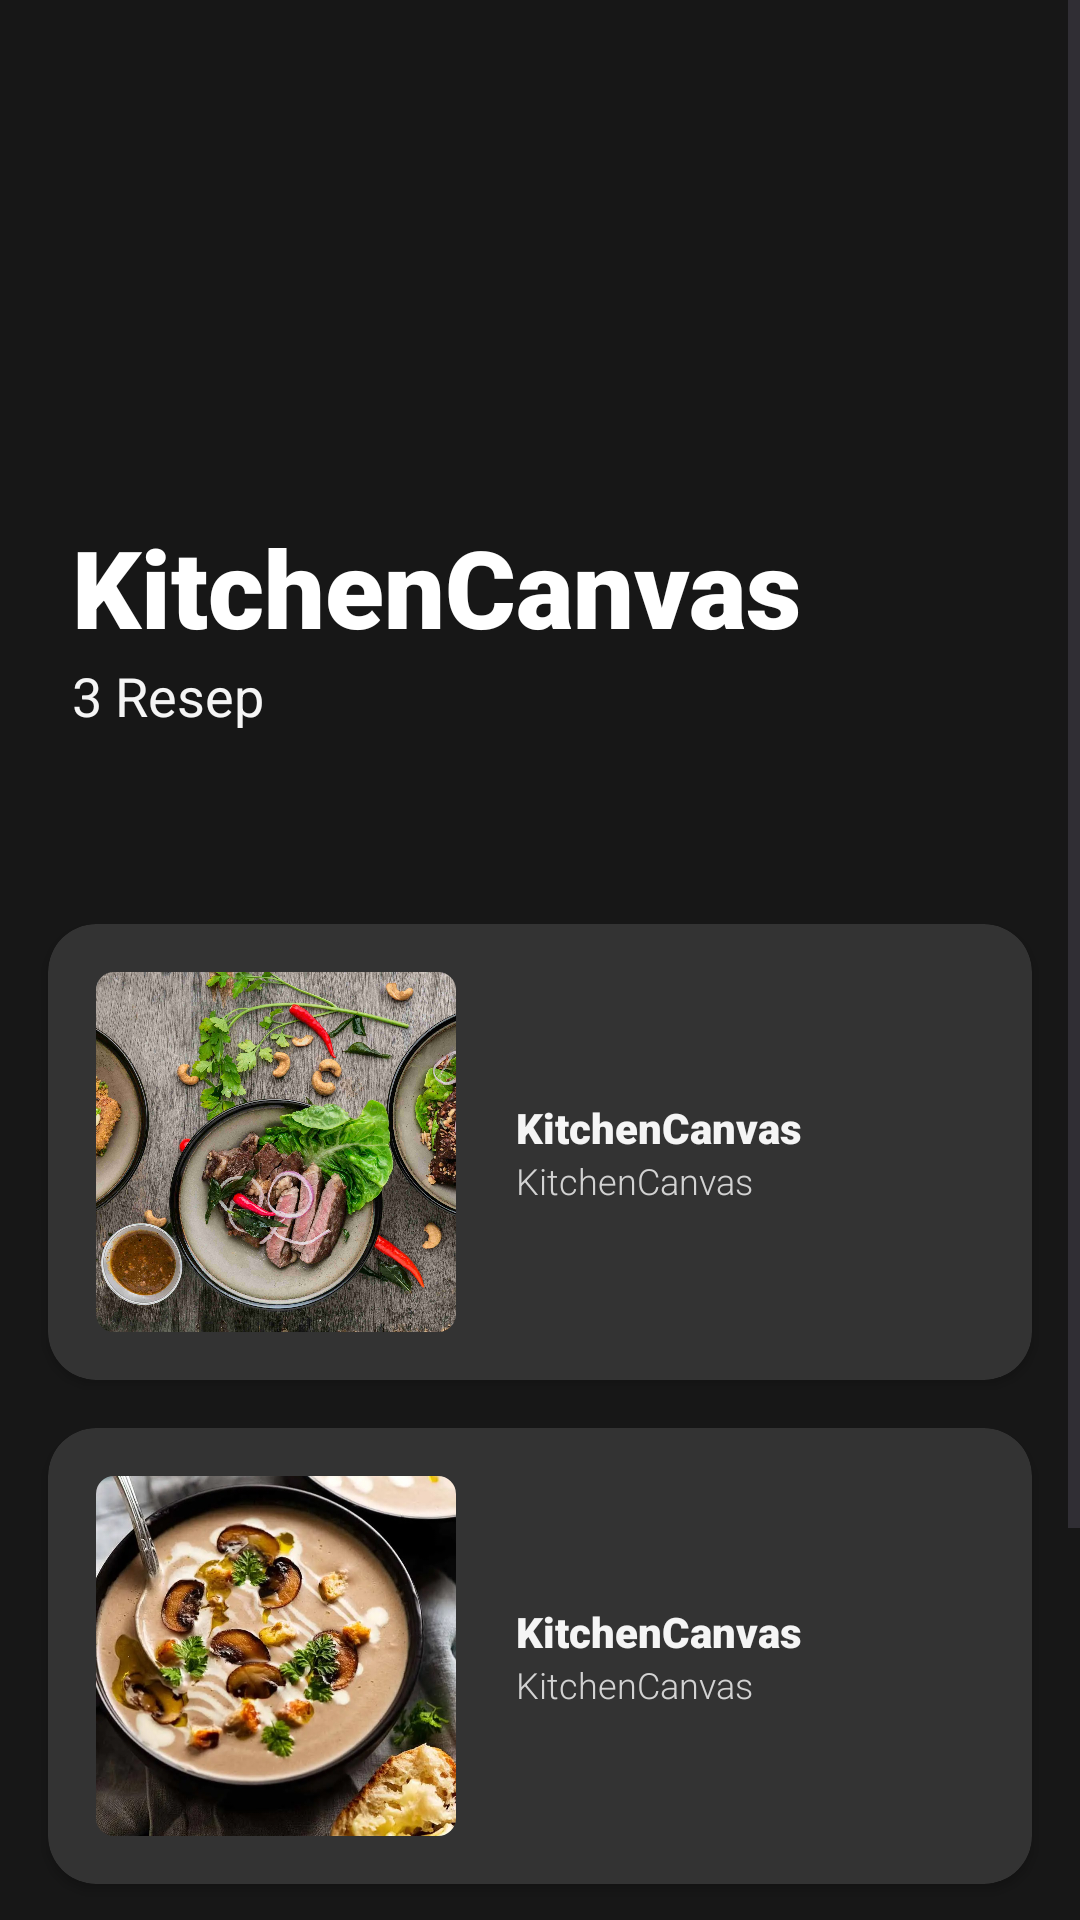

Named icons in this screenshot (1080x1920) and their bounding boxes, (x1, y1, x2, y2):
mushroom soup: (96, 1476, 456, 1836)
steak: (96, 972, 456, 1332)
